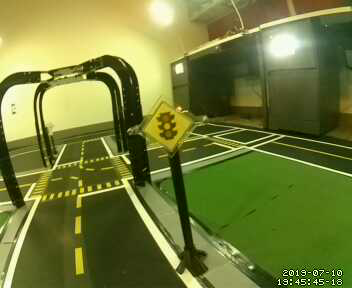Traffic light sign: (140, 100, 195, 151)
